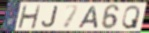6: (100, 4, 121, 30)
7: (62, 4, 80, 30)
A: (77, 5, 100, 29)
H: (17, 4, 42, 29)
J: (41, 5, 59, 29)
Q: (121, 5, 141, 31)
